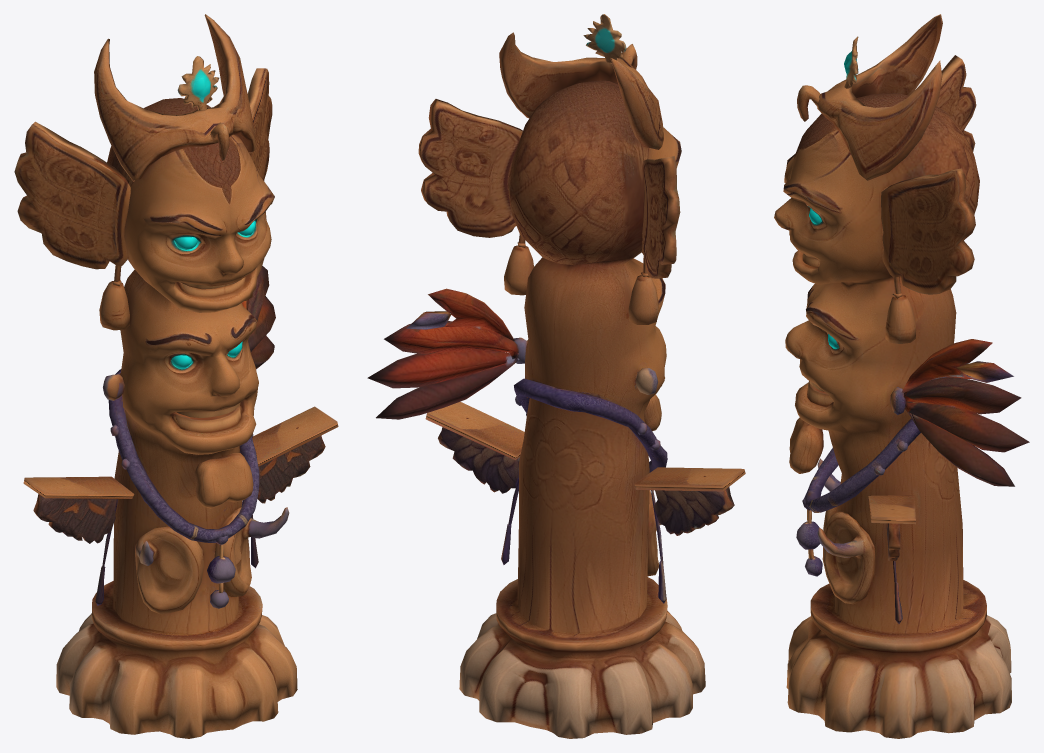
The model's file is sky-spirit-totem.glb.
3 renders of one model, left to right at view 1: azimuth 30°, elevation 25°; view 2: azimuth 150°, elevation 25°; view 3: azimuth 270°, elevation 25°, orthographic.
Parts seen in each view (by area): view 1: sky-spirit-totem; view 2: sky-spirit-totem; view 3: sky-spirit-totem.
Boxes of the visible parts, x1,y1,x2,y2 form: sky-spirit-totem: [14, 14, 338, 738]; sky-spirit-totem: [367, 14, 745, 738]; sky-spirit-totem: [774, 14, 1029, 738].
Size of the model in its own units: 0.4743 by 1 by 0.3562.
Materials: 1 (1 with a texture image).
